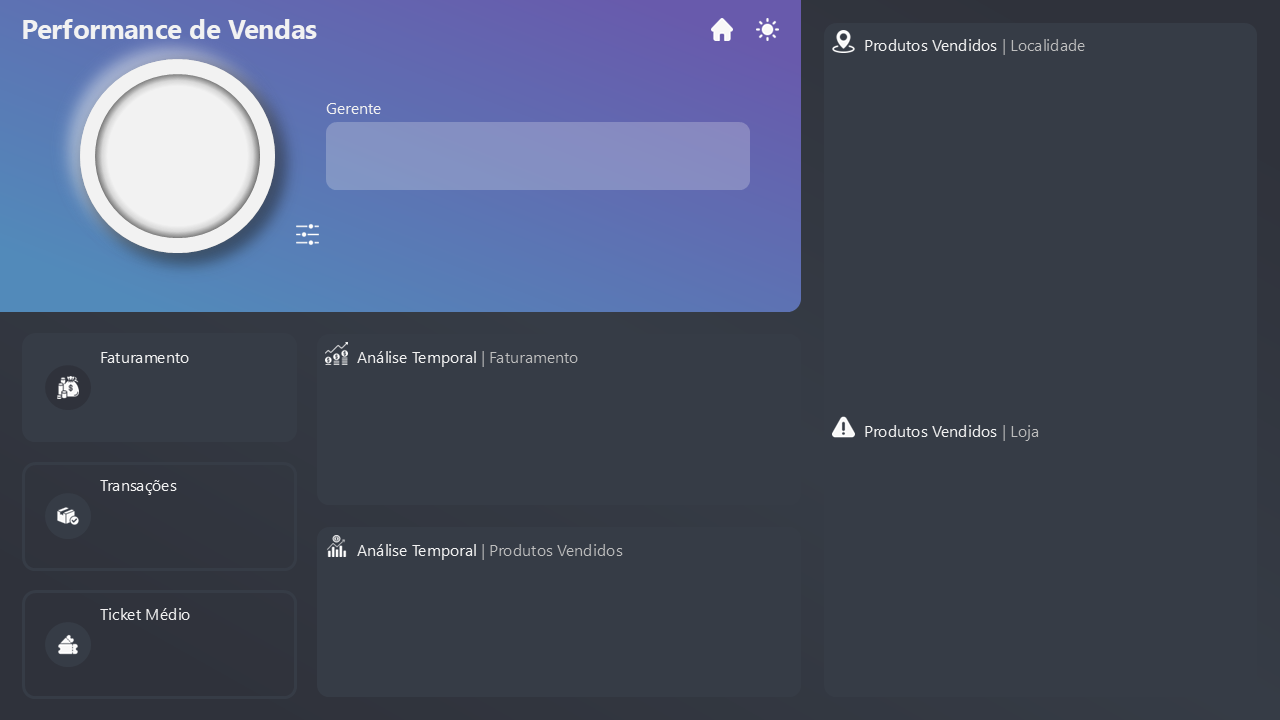

Layout of this report page (visuals, bound fields, positions):
{"tool":"powerbi","page":{"name":"analise-dark","canvas":[1280,720],"ordinal":1},"visuals":[{"type":"cardVisual","fields":{"Data":["fPedidos.Faturamento"]},"box":[82,350.2,230,86.5],"z":0},{"type":"cardVisual","fields":{"Data":["fPedidos.Quantidade de Pedidos"]},"box":[82,478,230,86],"z":1000},{"type":"cardVisual","fields":{"Data":["fPedidos.Ticket Médio"]},"box":[82,608,230,86],"z":2000},{"type":"slicer","fields":{"Values":["dGerentes.nome_gerente"]},"box":[299.9,210.8,474.6,47.6],"z":3000},{"type":"areaChart","fields":{"Category":["dCalendario.mes_abreviado"],"Y":["fPedidos.Faturamento"],"Y2":["Medidas.quantidade_pedidos"]},"box":[318,368.6,482,136],"z":4000},{"type":"card","fields":{"Values":["Min(dGerentes.nome_gerente)"]},"box":[326,122,424,68],"z":6000},{"type":"tableEx","fields":{"Values":["lojas.nome_loja","Medidas.quantidade_produtos","Medidas.percentual_produtos_vendidos_loja","SparklineData(Medidas.quantidade_produtos_[dCalendario.mes_abreviado])"]},"box":[826,446,430,254],"z":7000},{"type":"ImageGrid_FC5183B9_926C_45E0_B5F7_0CE9EAF1DA9B","fields":{"ImageURLHQ":["dGerentes.link_foto_gerente"]},"box":[89,56.5,176.4,198.5],"z":8000},{"type":"shapeMap","fields":{"Category":["dUnidadesFederativas.Estado"],"Value":["Medidas.quantidade_produtos"]},"box":[826,38,430,400],"z":8001},{"type":"areaChart","fields":{"Category":["calendario.mes"],"Y":["fPedidos.Quntidade de Produtos"]},"box":[318,560,482,136],"z":8002},{"type":"actionButton","box":[702,10.6,40,40],"z":8003},{"type":"actionButton","box":[748,9.7,39.7,40.6],"z":8004}]}

Visuals, with their boxes in screenshot pixels (x1, y1, x2, y2), scaled from the page's 1280x720 canvas onto the 1280x720 screenshot:
cardVisual - fPedidos.Faturamento: left=82, top=350, right=312, bottom=437
cardVisual - fPedidos.Quantidade de Pedidos: left=82, top=478, right=312, bottom=564
cardVisual - fPedidos.Ticket Médio: left=82, top=608, right=312, bottom=694
slicer - dGerentes.nome_gerente: left=300, top=211, right=774, bottom=258
areaChart - dCalendario.mes_abreviado x fPedidos.Faturamento: left=318, top=369, right=800, bottom=505
card - Min(dGerentes.nome_gerente): left=326, top=122, right=750, bottom=190
tableEx - lojas.nome_loja x Medidas.quantidade_produtos: left=826, top=446, right=1256, bottom=700
ImageGrid_FC5183B9_926C_45E0_B5F7_0CE9EAF1DA9B - dGerentes.link_foto_gerente: left=89, top=56, right=265, bottom=255
shapeMap - dUnidadesFederativas.Estado x Medidas.quantidade_produtos: left=826, top=38, right=1256, bottom=438
areaChart - calendario.mes x fPedidos.Quntidade de Produtos: left=318, top=560, right=800, bottom=696
actionButton: left=702, top=11, right=742, bottom=51
actionButton: left=748, top=10, right=788, bottom=50
